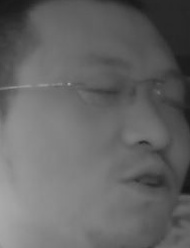blink: (86, 85, 120, 97)
glass: (78, 67, 138, 110)
mouth: (122, 166, 177, 200)
